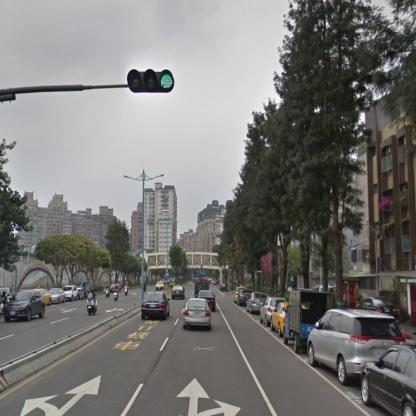Green Light: (129, 68, 176, 91)
